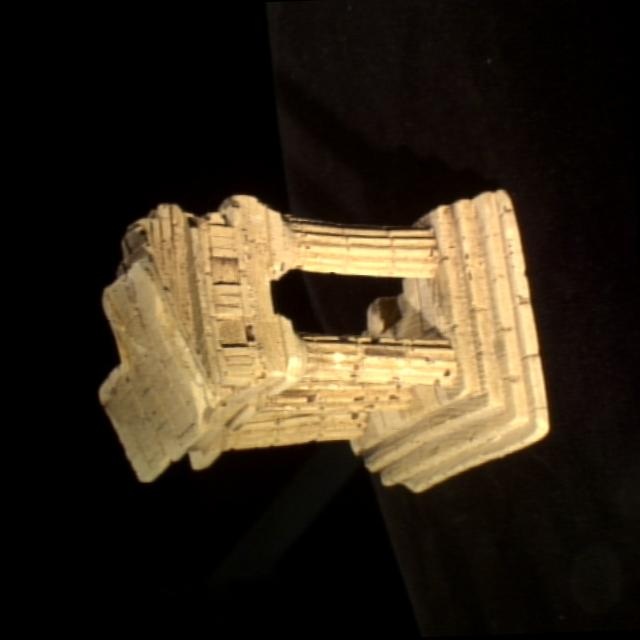Instance-Segmentation: (100, 191, 548, 491)
